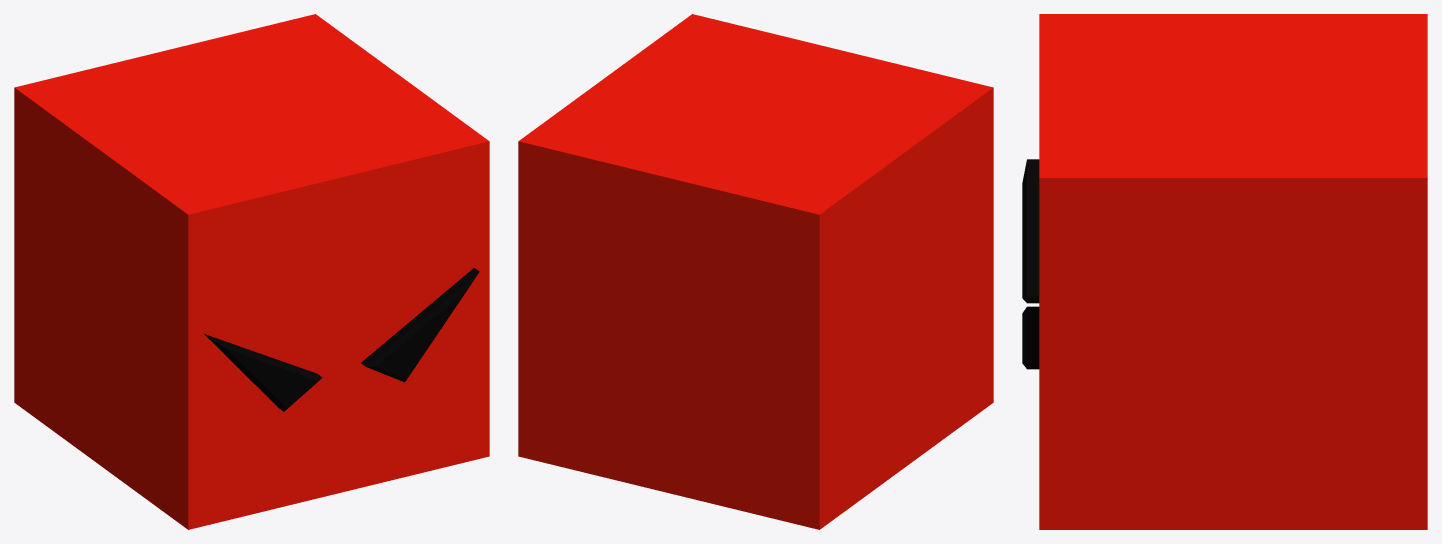
File: WaruBox1.fbx
The picture shows the model from 3 angles, left to right: view 1: azimuth 30°, elevation 25°; view 2: azimuth 150°, elevation 25°; view 3: azimuth 270°, elevation 25°; orthographic projection. The views are drawn at different scales.
Parts seen in each view (by area): view 1: WaruBox1, WaruEye1; view 2: WaruBox1; view 3: WaruBox1, WaruEye1.
Boxes of the visible parts, <box> form: WaruBox1: <box>14,14,489,529</box>; WaruEye1: <box>204,268,479,411</box>; WaruBox1: <box>518,14,993,529</box>; WaruBox1: <box>1039,14,1427,529</box>; WaruEye1: <box>1022,159,1039,369</box>.
Bounding box in the file's own units: 1 × 1 × 1.04.
1 material, 1 textured.
